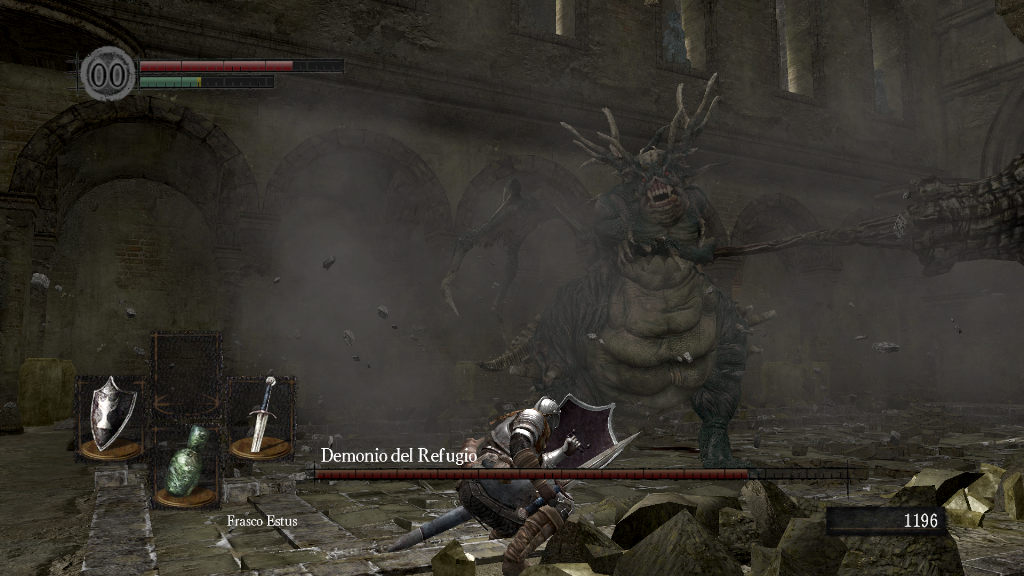asylumDemon: (441, 70, 780, 465)
bossHP: (314, 469, 847, 479)
health: (138, 58, 343, 71)
humanity: (80, 45, 136, 102)
player: (453, 392, 642, 576)
souls: (825, 506, 945, 536)
stamina: (138, 74, 274, 88)
